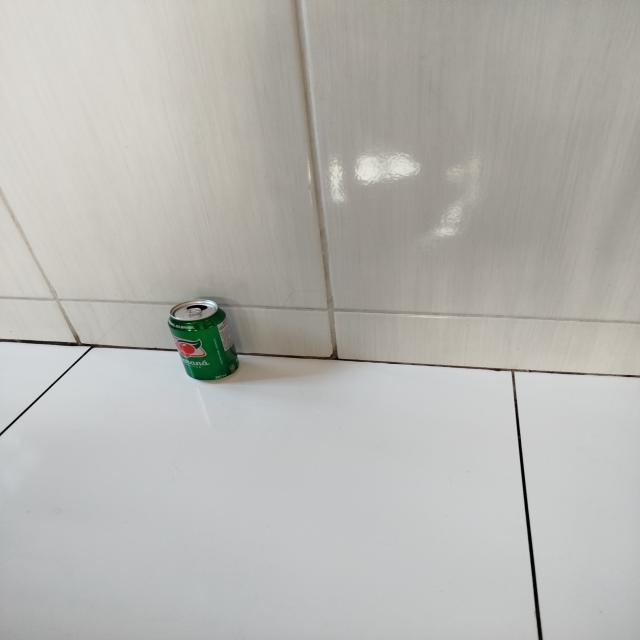Guarana: (169, 296, 247, 382)
